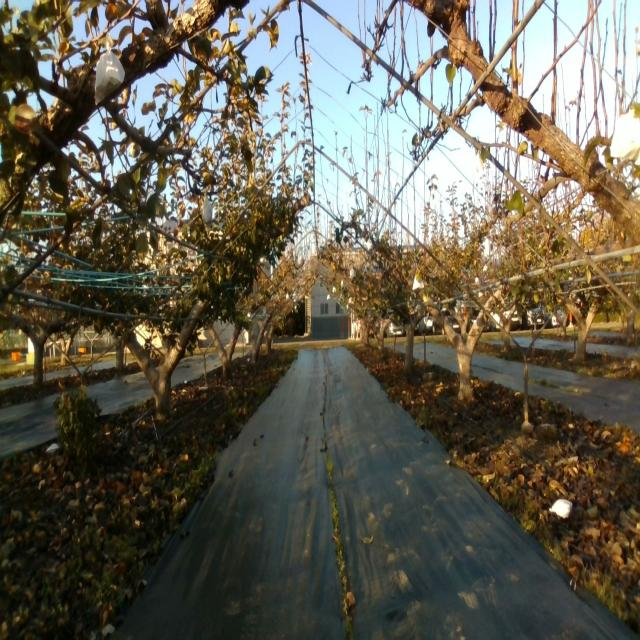pearbags: (93, 41, 126, 109), (610, 107, 640, 167), (200, 192, 213, 230)
